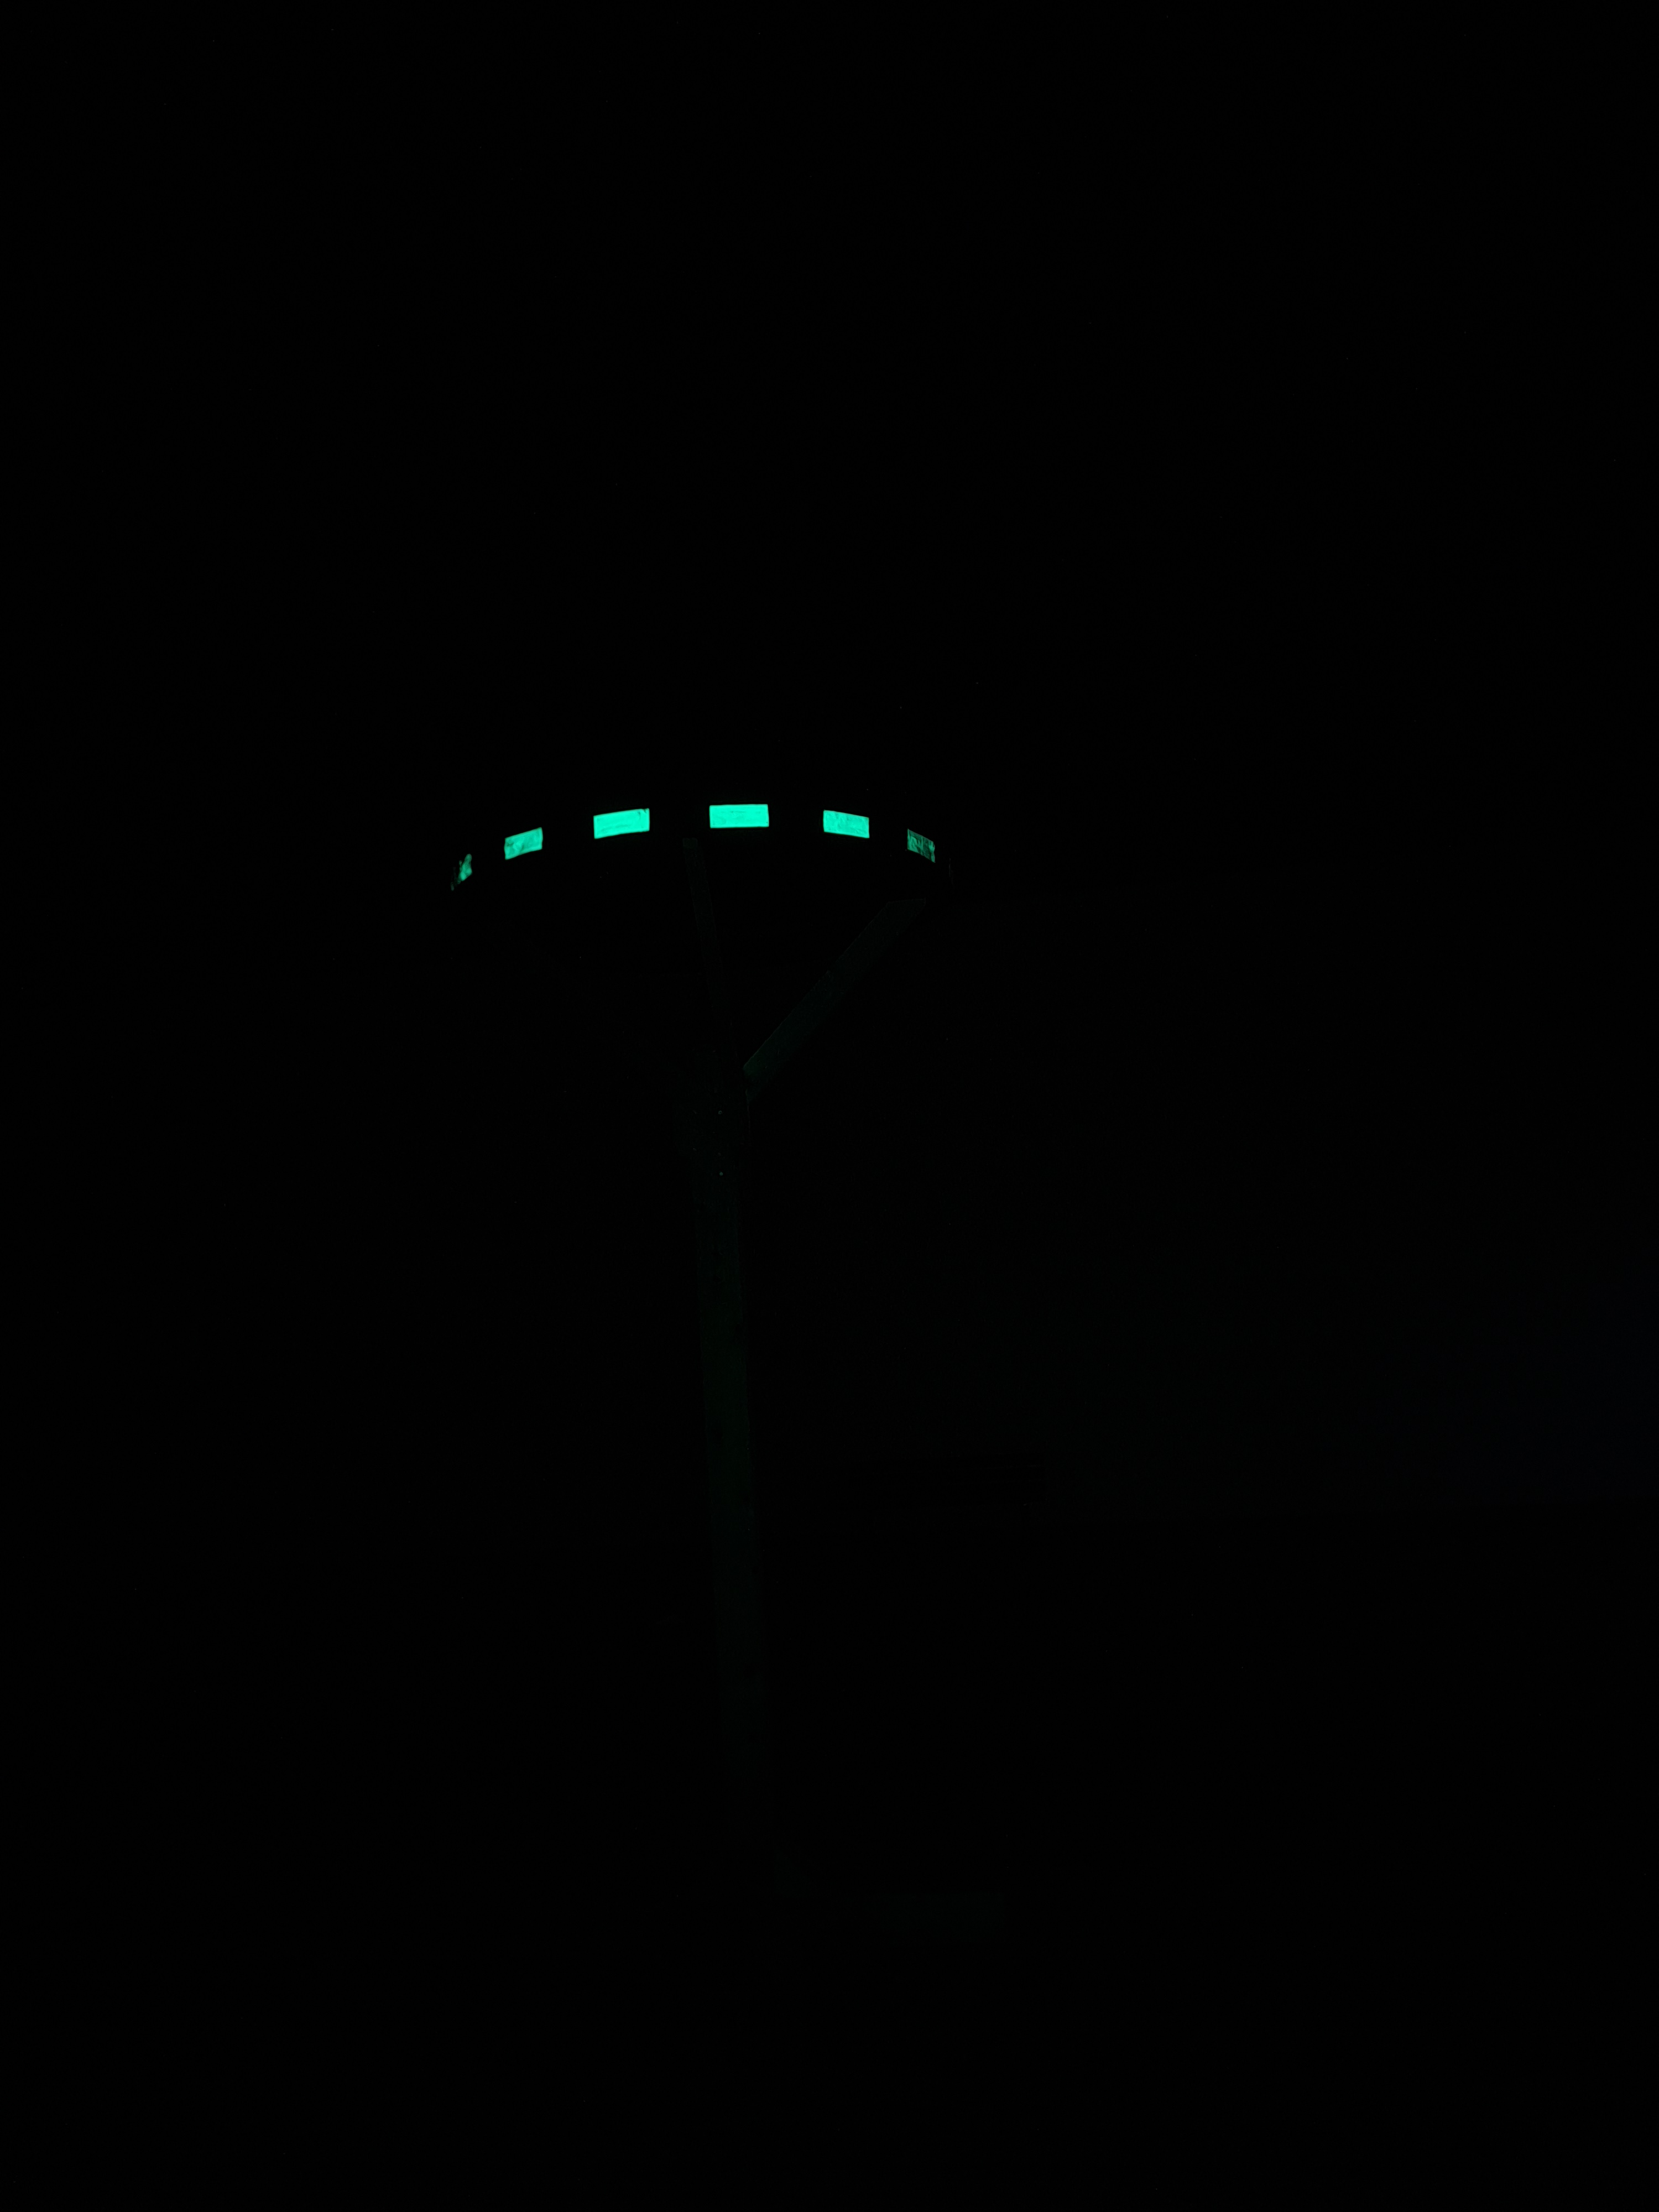hoop: (420, 779, 962, 914)
